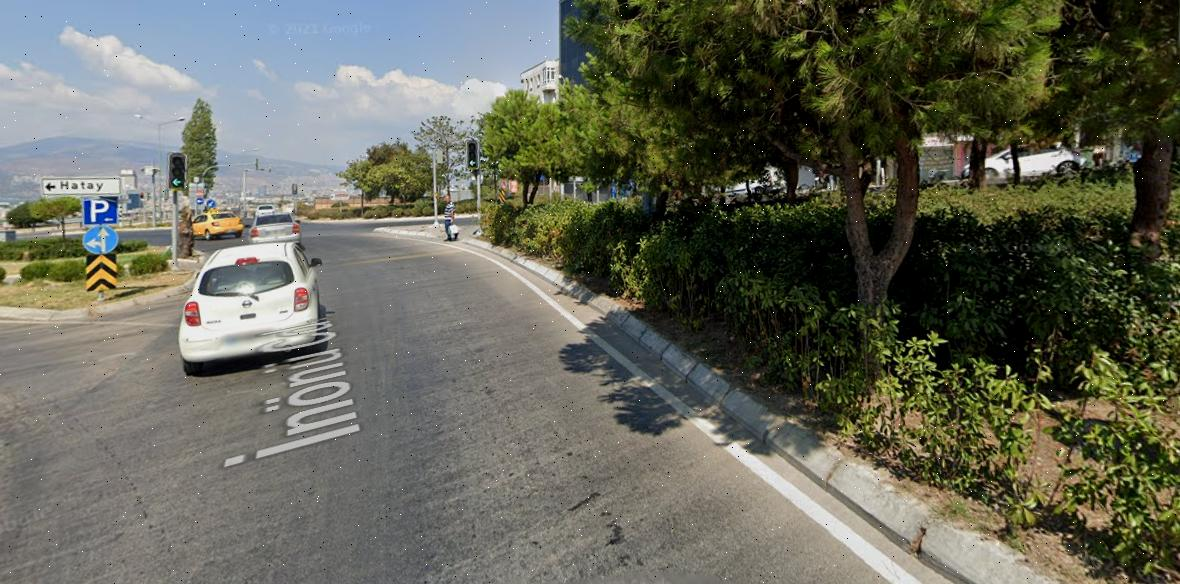greenlight: (170, 153, 183, 187), (466, 141, 479, 169)
park: (83, 198, 118, 224)
